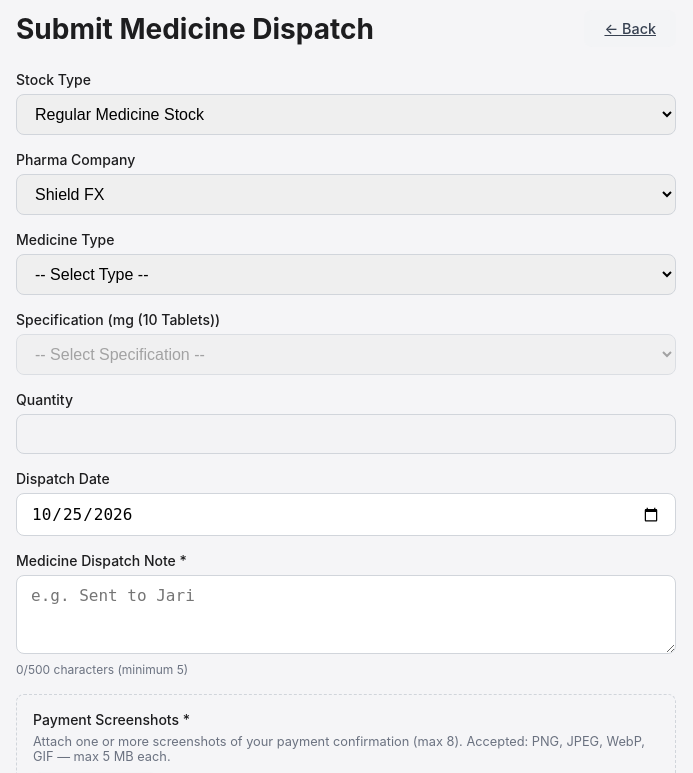
Scenario: Notes field › counter updates as user types
Step 1. Type "Hello" into the text box labelled "Medicine Dispatch Note *" → (346, 614), box [16,575,676,654]
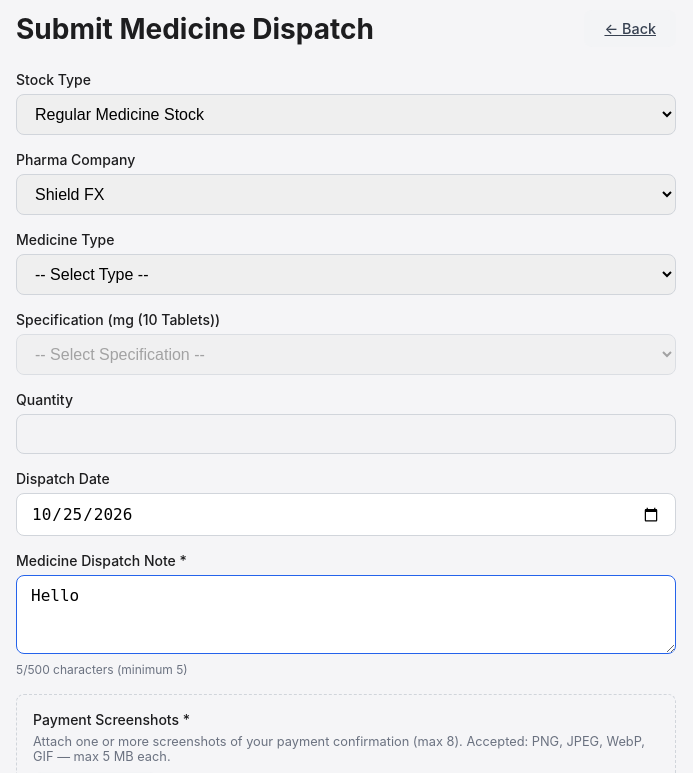
Expected: the text "5/500 characters (minimum 5)" is shown, [16,662,188,677]
